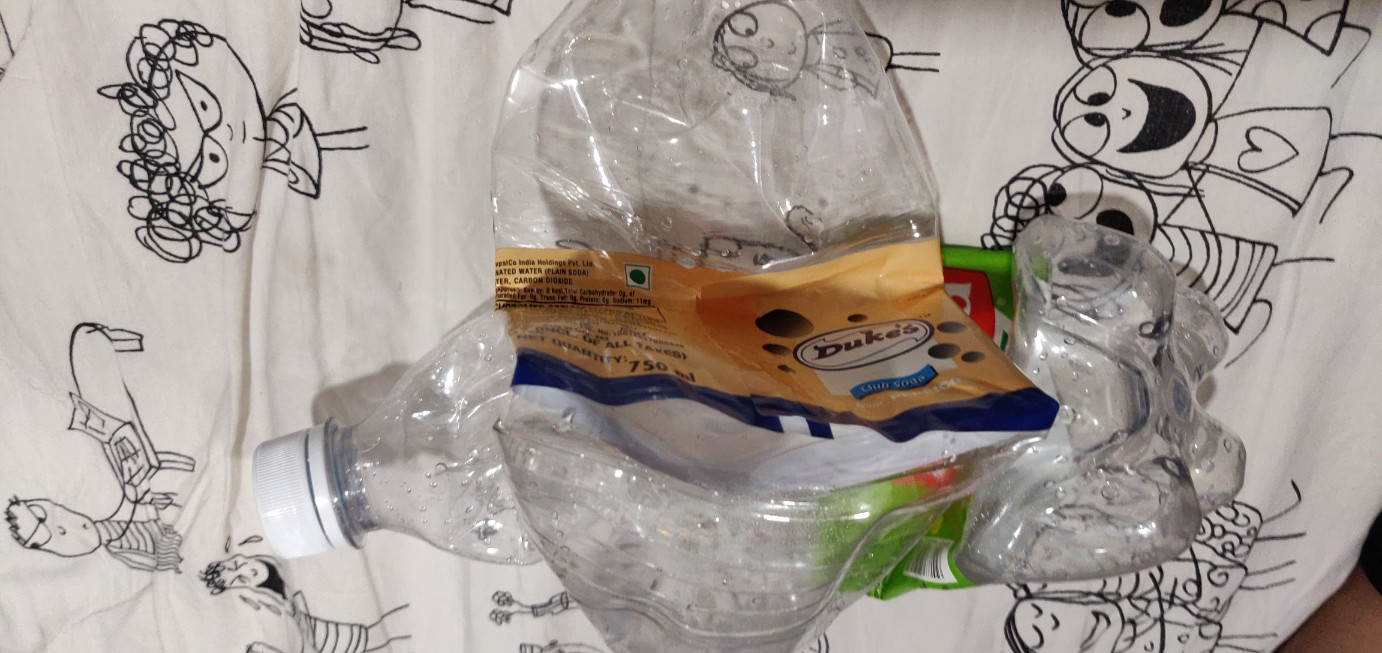Electronics: (220, 206, 1273, 653), (469, 2, 1090, 649)
